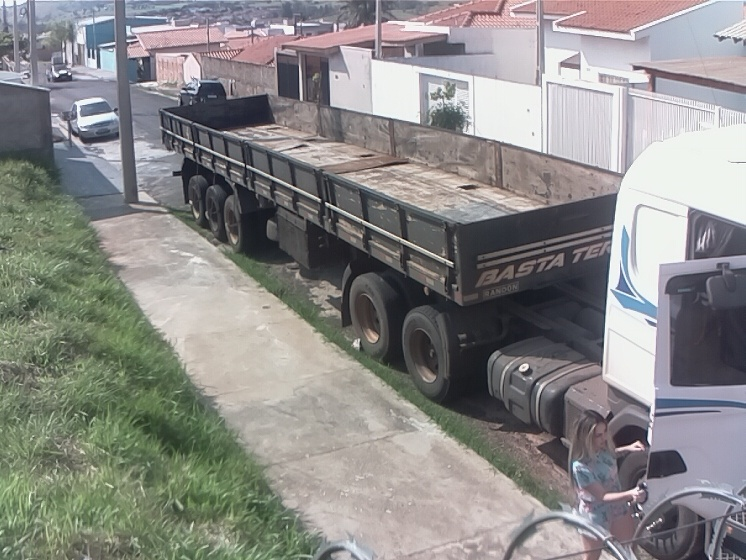person: (563, 408, 644, 560)
